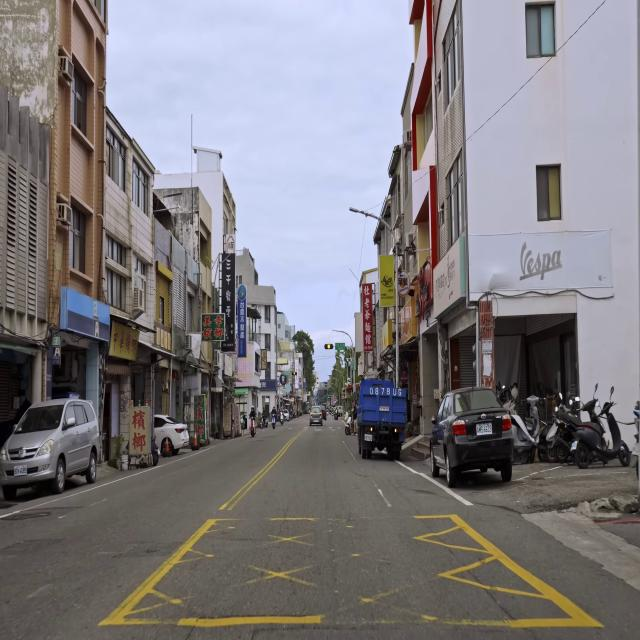yellow light: (324, 344, 334, 349), (292, 372, 297, 376)
